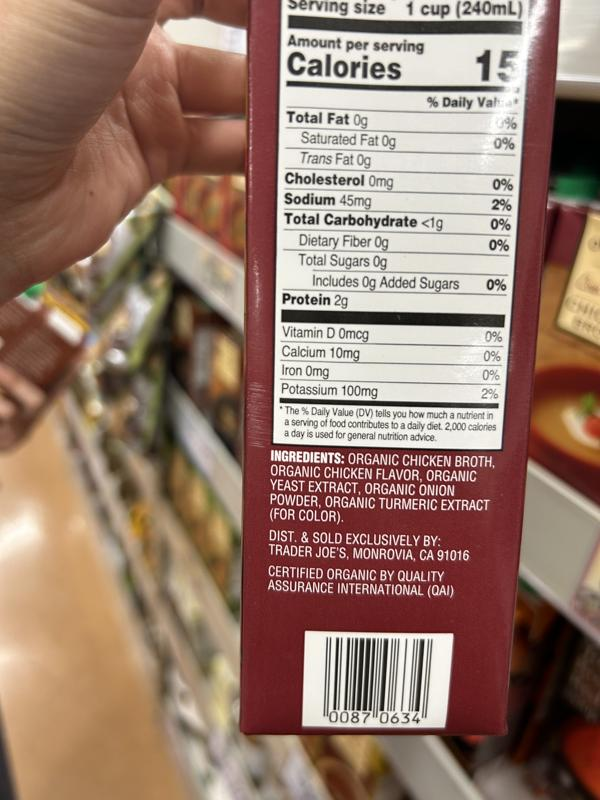ingredients: (266, 447, 497, 526)
